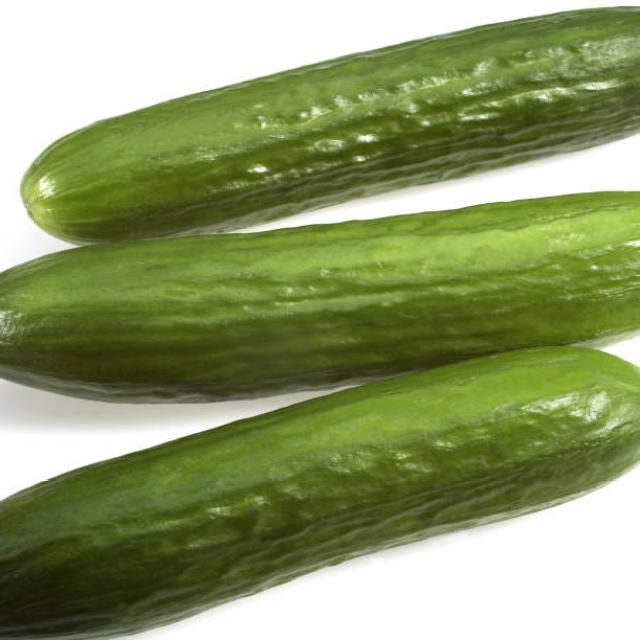cucumber: (0, 342, 640, 640), (25, 4, 640, 249), (0, 190, 640, 403)
